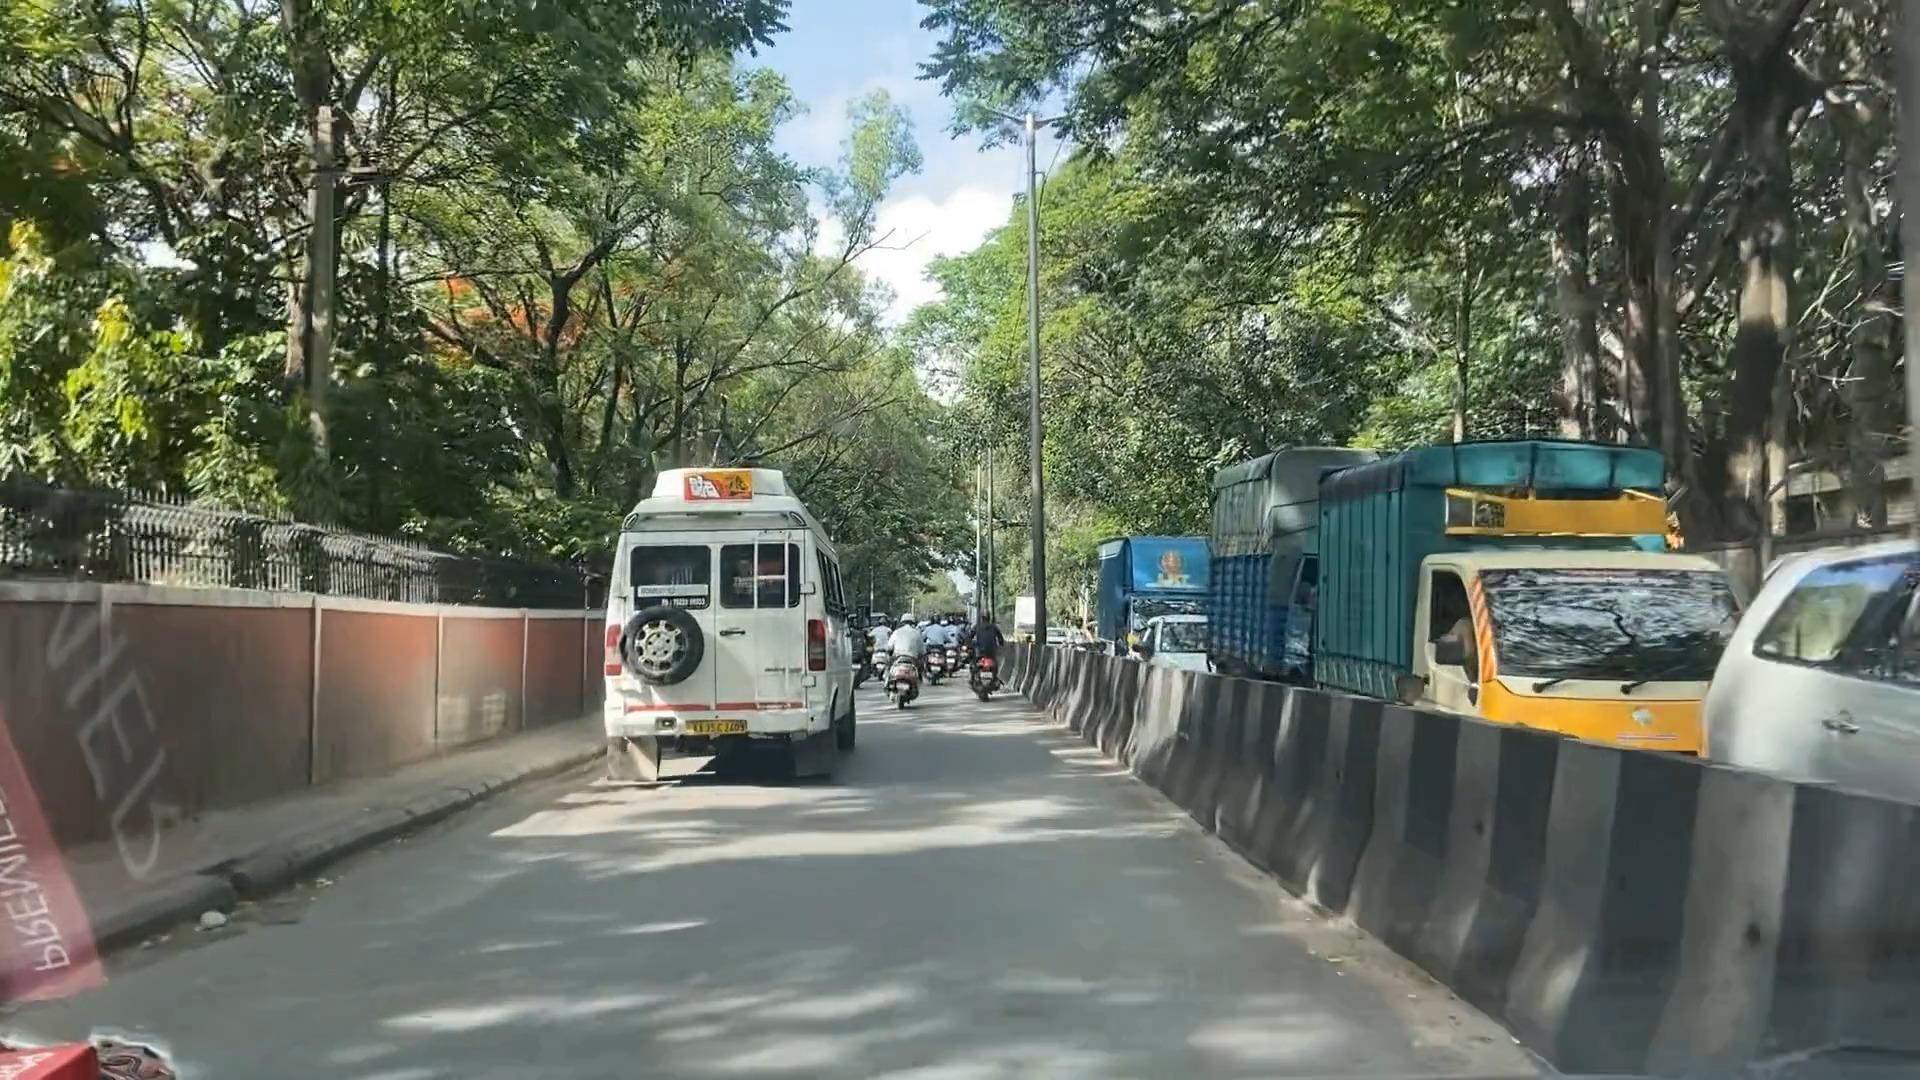HMV: (1319, 398, 1735, 757), (601, 426, 889, 827)
